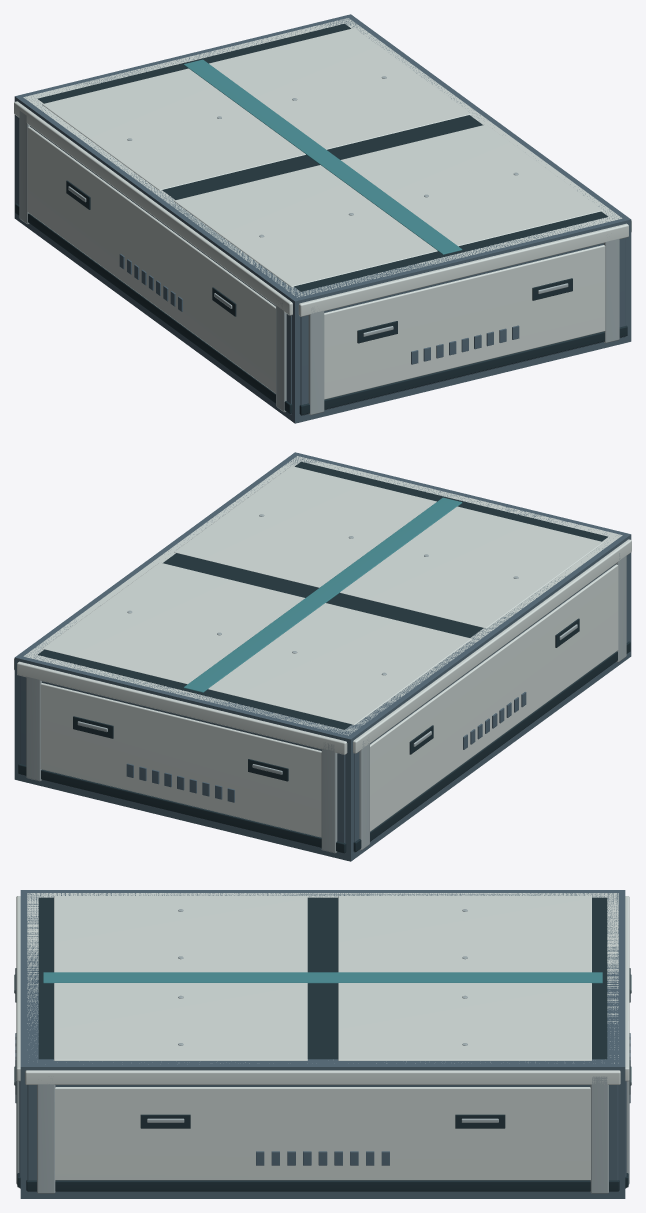
File: nexus-induction.glb
3 views of the same model, one above another, from view 1: azimuth 30°, elevation 25°; view 2: azimuth 150°, elevation 25°; view 3: azimuth 270°, elevation 25° (orthographic). The views are drawn at different scales.
Visible parts, largest first — view 1: OB17 / nexus-induction; view 2: OB17 / nexus-induction; view 3: OB17 / nexus-induction.
Boxes of the visible parts, x1,y1,x2,y2 form: OB17 / nexus-induction: [14, 14, 631, 423]; OB17 / nexus-induction: [14, 452, 631, 861]; OB17 / nexus-induction: [14, 890, 631, 1198].
Bounding box in the file's own units: 3.71 × 1.27 × 5.31.
